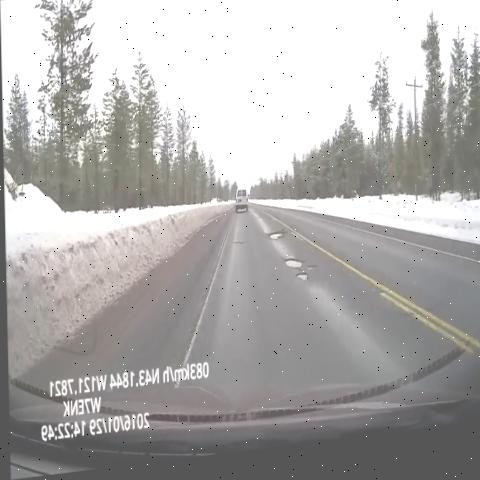pothole: (278, 261, 304, 283), (227, 238, 249, 259), (266, 233, 287, 252), (294, 279, 310, 297), (305, 269, 318, 285)
